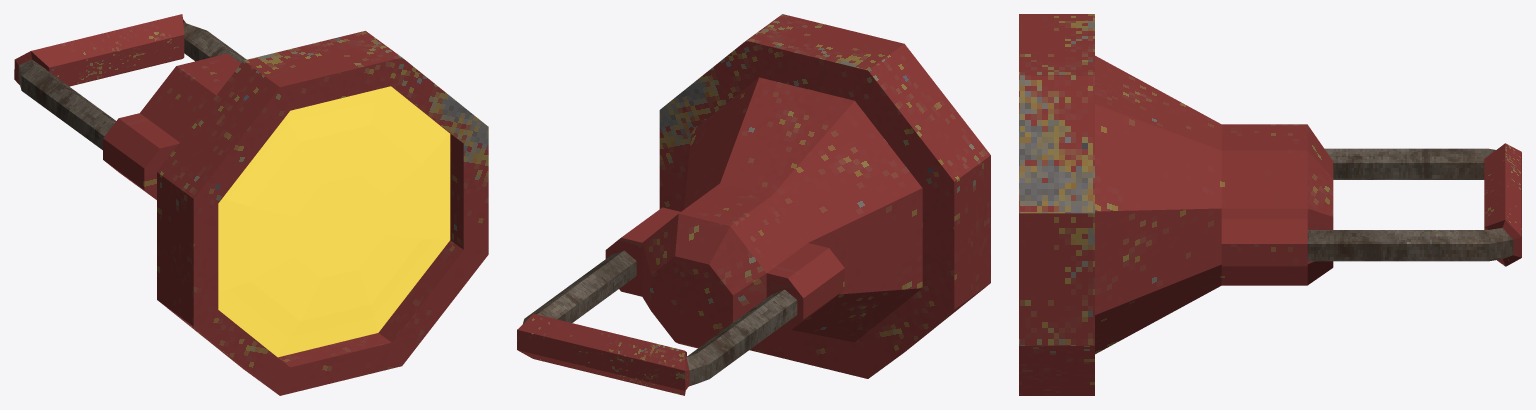
The model's file is front_light.glb.
The picture shows the model from 3 angles, left to right: view 1: azimuth 30°, elevation 25°; view 2: azimuth 150°, elevation 25°; view 3: azimuth 270°, elevation 25°; orthographic projection. The views are drawn at different scales.
Parts seen in each view (by area): view 1: front_projector; view 2: front_projector; view 3: front_projector.
Boxes of the visible parts, box(x1,y1,x2,y2) form: front_projector: box(14, 14, 488, 395); front_projector: box(517, 14, 990, 395); front_projector: box(1019, 14, 1521, 395).
Size of the model in its own units: 1.07 by 1.07 by 1.53.
3 materials, 2 textured.
